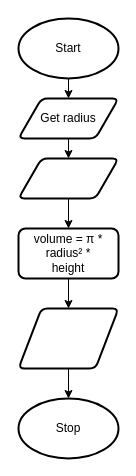
Some shapes in this 136 by 476 pixel diagram are drawn without their labels. The shapes that lost their labels are listed below. From the top down, each one's centre as x and y in pixels, then its label:
At point 68,178: "Get height".
At point 68,338: "Return volume".
